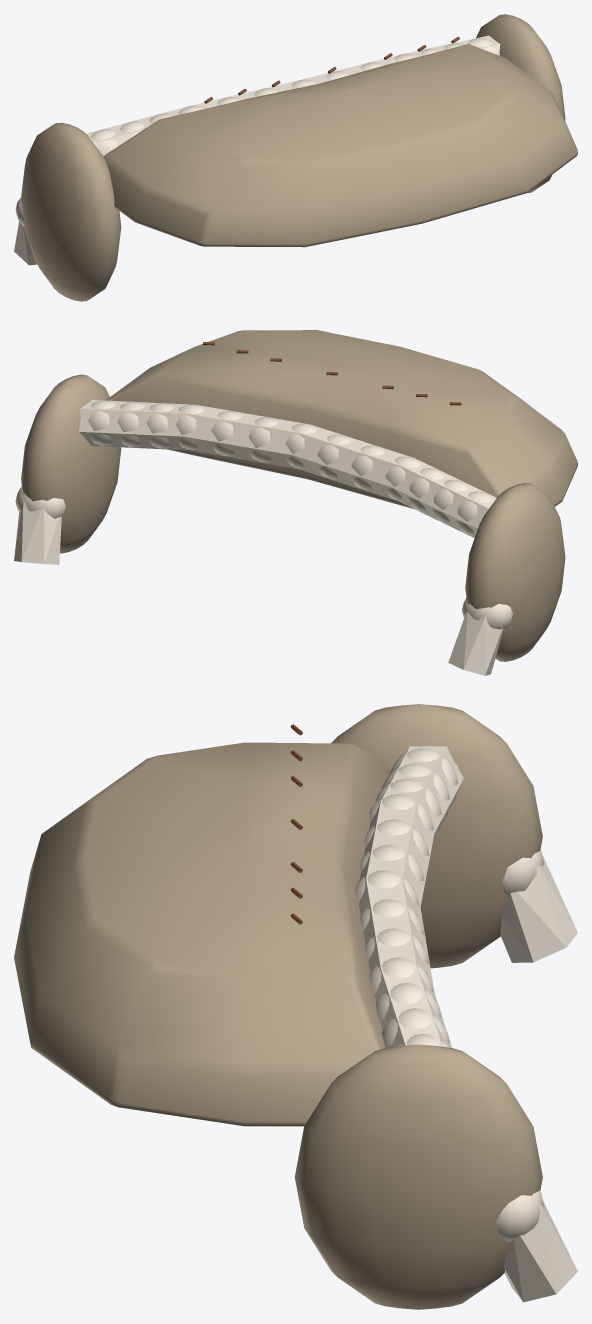
The model's file is fur_hat.fbx.
3 views of the same model, one above another, from view 1: azimuth 30°, elevation 25°; view 2: azimuth 150°, elevation 25°; view 3: azimuth 270°, elevation 25° (orthographic). The views are drawn at different scales.
Parts seen in each view (by area): view 1: fur_hat_armor; view 2: fur_hat_armor; view 3: fur_hat_armor.
Boxes of the visible parts, bbox=[...] form: fur_hat_armor: bbox=[14, 14, 577, 301]; fur_hat_armor: bbox=[14, 330, 577, 675]; fur_hat_armor: bbox=[14, 704, 577, 1309].
Bounding box in the file's own units: 4.52 × 1.72 × 2.77.
Materials: 1 (1 with a texture image).
